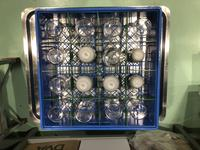Cup: (102, 74, 121, 93), (78, 46, 97, 63), (74, 77, 93, 92), (129, 75, 144, 93), (127, 49, 145, 62)
Glass: (44, 19, 68, 40), (130, 17, 152, 38), (47, 101, 68, 122), (75, 18, 96, 39), (48, 74, 69, 94), (127, 99, 148, 119), (102, 47, 123, 67), (76, 100, 94, 123), (103, 100, 123, 120), (47, 48, 68, 65), (104, 19, 121, 40)
